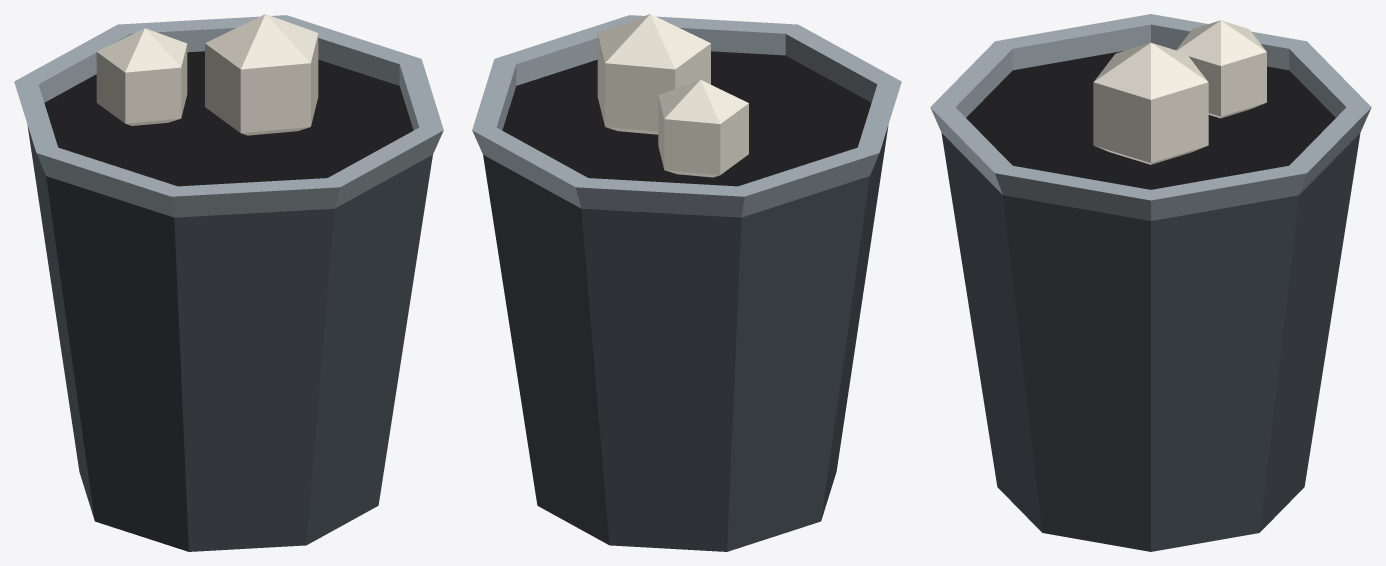
Rendered from GO_Wastebasket_01.glb.
3 renders of one model, left to right at view 1: azimuth 30°, elevation 25°; view 2: azimuth 150°, elevation 25°; view 3: azimuth 270°, elevation 25°, orthographic.
Parts seen in each view (by area): view 1: GO_Wastebasket_01; view 2: GO_Wastebasket_01; view 3: GO_Wastebasket_01.
Part boxes in pixels (x1,y1,x2,y2): GO_Wastebasket_01: (14,14,443,551); GO_Wastebasket_01: (472,14,901,551); GO_Wastebasket_01: (930,14,1371,551).
Size of the model in its own units: 0.316 by 0.365 by 0.316.
Materials: 1 (1 with a texture image).
